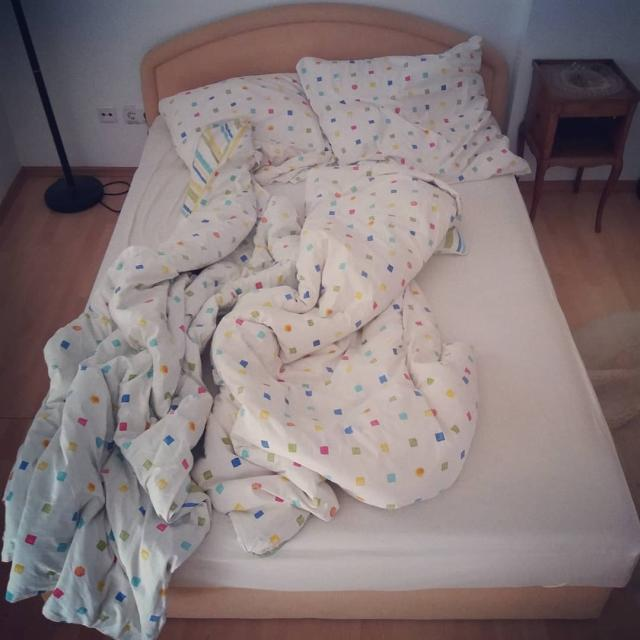bed: (61, 42, 536, 640)
